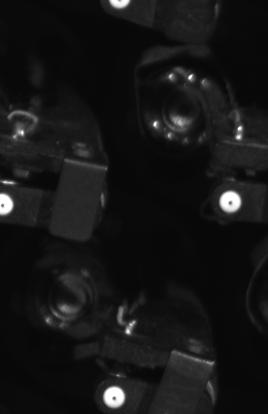fiber: (95, 382, 132, 413), (215, 185, 246, 218), (1, 191, 20, 219), (104, 1, 139, 16)
